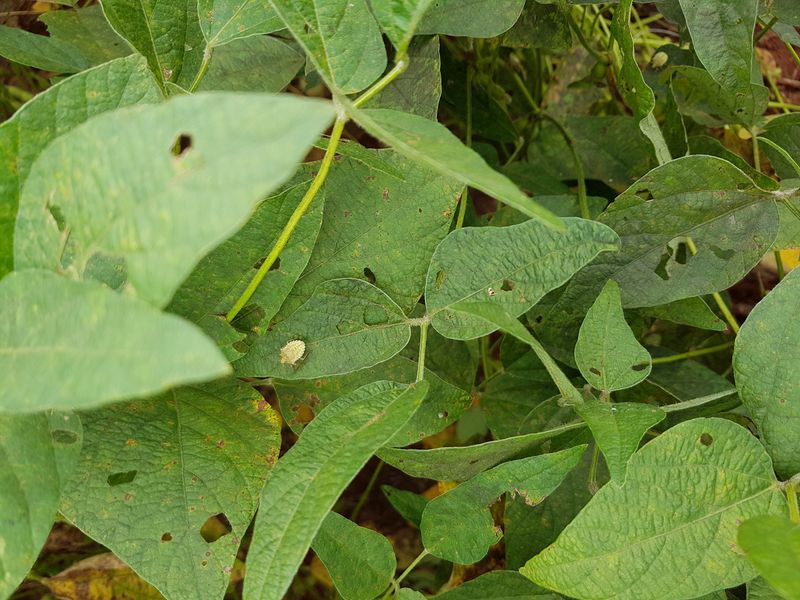Euschistus_heros_ninfa: (266, 329, 317, 376), (644, 45, 676, 76)
